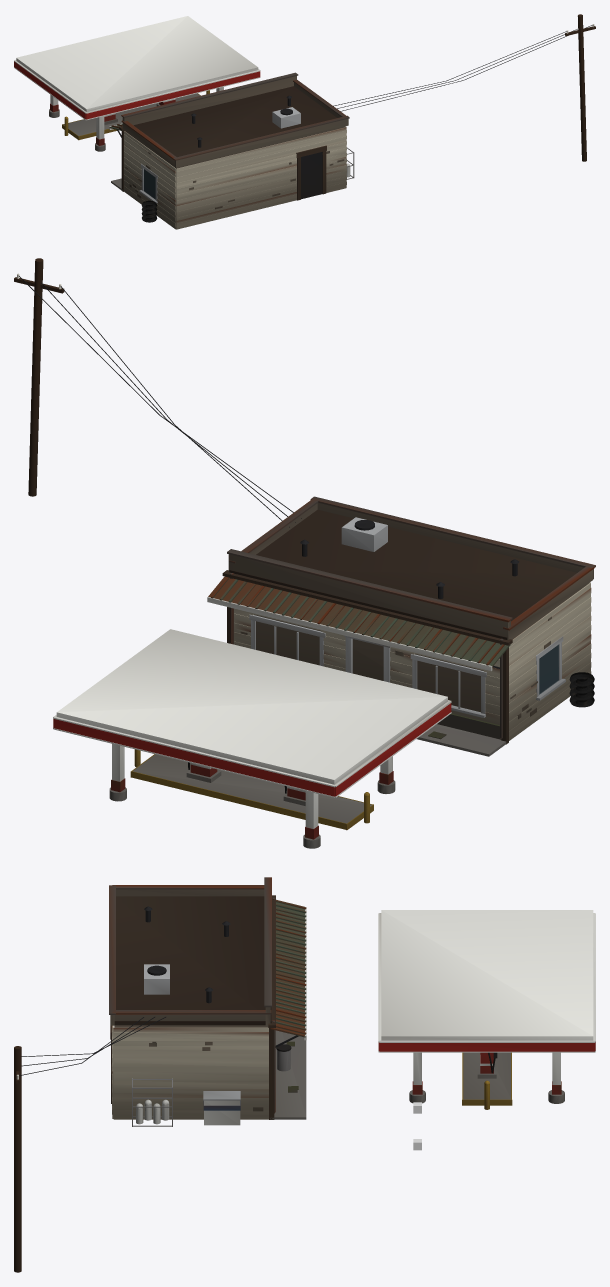
Rendered from CannibalFamilyMeshes8.glb.
The picture shows the model from 3 angles, top to bottom: view 1: azimuth 30°, elevation 25°; view 2: azimuth 150°, elevation 25°; view 3: azimuth 270°, elevation 25°; orthographic projection. The views are drawn at different scales.
Visible parts, largest first — view 1: GasStationExterior_paint_white, GasStationExterior_clapboard, GasStationExterior_roof_deck, GasStationExterior_siding, GasStationExterior_iron, GasStationExterior_metal_dark, GasStationExterior_paint_red, GasStationExterior_concrete, GasStationExterior_wood_dark, GasStationExterior_trim, GasStationExterior_aluminium, GasStationExterior_paint_yellow (+2 smaller); view 2: GasStationExterior_paint_white, GasStationExterior_roof_deck, GasStationExterior_siding, GasStationExterior_clapboard, GasStationExterior_metal_roof, GasStationExterior_concrete, GasStationExterior_iron, GasStationExterior_paint_red, GasStationExterior_aluminium, GasStationExterior_trim, GasStationExterior_wood_dark, GasStationExterior_paint_yellow (+3 smaller); view 3: GasStationExterior_paint_white, GasStationExterior_roof_deck, GasStationExterior_clapboard, GasStationExterior_concrete, GasStationExterior_metal_roof, GasStationExterior_iron, GasStationExterior_siding, GasStationExterior_paint_red, GasStationExterior_wood_dark, GasStationExterior_trim, GasStationExterior_metal_dark, GasStationExterior_aluminium (+2 smaller).
Boxes of the visible parts, x1,y1,x2,y2 form: GasStationExterior_paint_white: [14, 16, 350, 177]; GasStationExterior_clapboard: [124, 126, 346, 229]; GasStationExterior_roof_deck: [134, 86, 336, 157]; GasStationExterior_siding: [122, 76, 348, 209]; GasStationExterior_iron: [121, 72, 349, 160]; GasStationExterior_metal_dark: [117, 25, 592, 199]; GasStationExterior_paint_red: [14, 61, 260, 145]; GasStationExterior_concrete: [49, 93, 200, 190]; GasStationExterior_wood_dark: [565, 14, 595, 161]; GasStationExterior_trim: [119, 126, 326, 200]; GasStationExterior_aluminium: [139, 107, 300, 203]; GasStationExterior_paint_yellow: [62, 90, 209, 140]; GasStationExterior_paint_white: [53, 597, 492, 828]; GasStationExterior_roof_deck: [229, 509, 576, 639]; GasStationExterior_siding: [228, 503, 593, 719]; GasStationExterior_clapboard: [234, 582, 591, 740]; GasStationExterior_metal_roof: [208, 576, 510, 667]; GasStationExterior_concrete: [109, 724, 506, 848]; GasStationExterior_iron: [227, 496, 595, 738]; GasStationExterior_paint_red: [53, 703, 451, 839]; GasStationExterior_aluminium: [249, 517, 565, 717]; GasStationExterior_trim: [222, 570, 512, 744]; GasStationExterior_wood_dark: [14, 258, 64, 496]; GasStationExterior_paint_yellow: [130, 749, 373, 830]; GasStationExterior_paint_white: [136, 907, 595, 1125]; GasStationExterior_roof_deck: [114, 896, 271, 1025]; GasStationExterior_clapboard: [112, 1025, 268, 1119]; GasStationExterior_concrete: [270, 1030, 564, 1119]; GasStationExterior_metal_roof: [270, 899, 306, 1037]; GasStationExterior_iron: [109, 877, 275, 1113]; GasStationExterior_siding: [110, 889, 270, 1111]; GasStationExterior_paint_red: [378, 1042, 595, 1094]; GasStationExterior_wood_dark: [14, 1046, 21, 1272]; GasStationExterior_trim: [110, 895, 275, 1119]; GasStationExterior_metal_dark: [19, 906, 497, 1075]; GasStationExterior_aluminium: [144, 964, 240, 1100].
Size of the model in its own units: 81.15 by 28.51 by 66.97.
